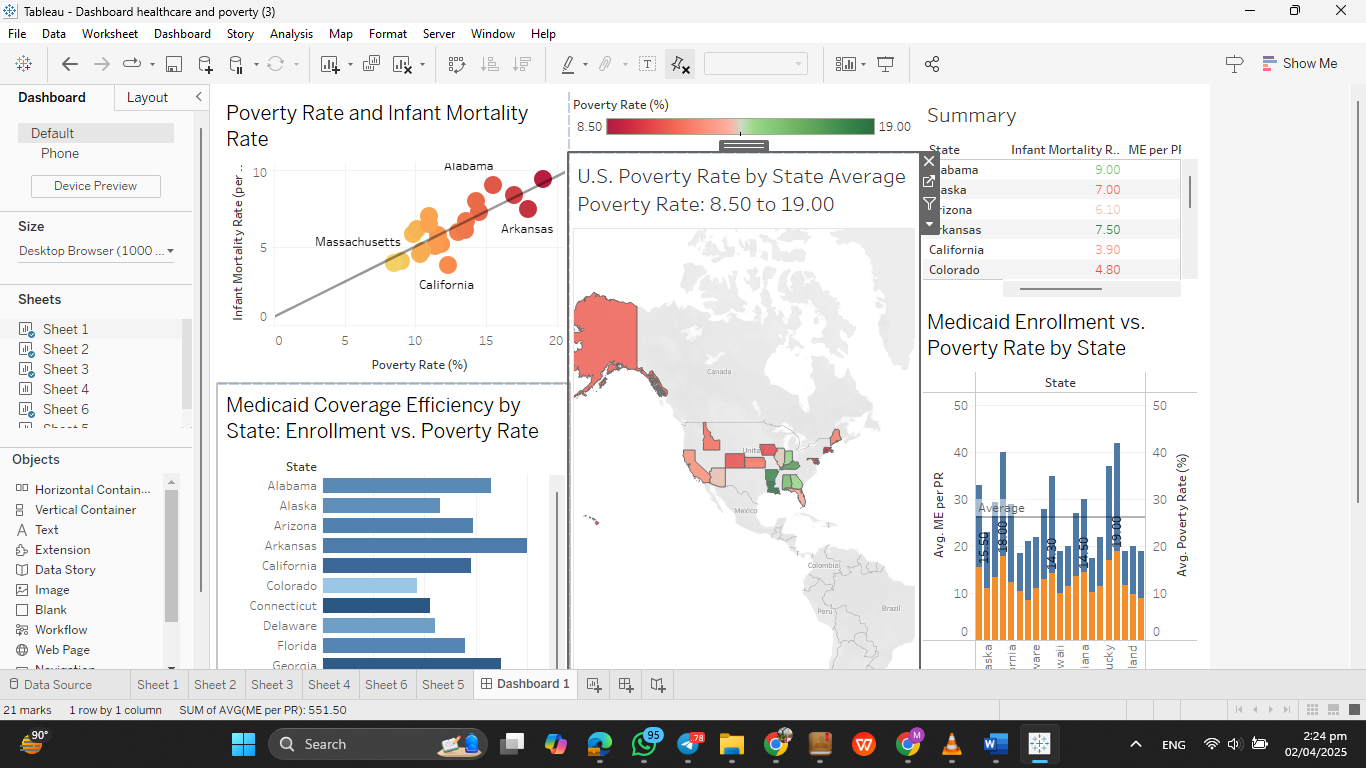

What the dashboard file says about the page in this screenshot:
{"tool":"tableau","page":{"name":"Dashboard 1","canvas":[1000,800],"ordinal":0},"visuals":[{"type":"worksheet","title":"Sheet 3","mark":"Circle","rows":["Infant Mortality Rate (per 1,000 live births)"],"cols":["Poverty Rate (%)"],"box":[8,8,350.5,292]},{"type":"legend","title":"Sheet 1","param":"[federated.0c37ou2148rixe16i6gbo1sla9c6].[sum:Poverty Rate (%):qk]","box":[358.5,8,350.5,61]},{"type":"worksheet","title":"Sheet 5","mark":"Automatic","rows":["State"],"box":[709,8,283,209]},{"type":"worksheet","title":"Sheet 1","mark":"Automatic","box":[358.5,69,350.5,723]},{"type":"worksheet","title":"Sheet 2","mark":"Bar","rows":["Medicaid Enrollment (%)","Poverty Rate (%)"],"cols":["State"],"box":[709,217,283,444]},{"type":"worksheet","title":"Sheet 6","mark":"Automatic","rows":["State"],"cols":["Medicaid Enrollment (%)"],"box":[8,300,350.5,492]},{"type":"legend","title":"Sheet 2","param":"[federated.0c37ou2148rixe16i6gbo1sla9c6].[:Measure Names]","box":[709,661,283,66]},{"type":"legend","title":"Sheet 6","param":"[federated.0c37ou2148rixe16i6gbo1sla9c6].[sum:Calculation_1747959611524739075:qk","box":[709,727,283,65]}]}

Visuals, with their boxes on the page's 1000x800 design canvas (x1, y1, x2, y2). These are canvas units, not pixel positions in the 1366x768 screenshot, which may show the page scaled, cropped or inside an application window:
"Sheet 3" worksheet (Circle marks): bbox=(8, 8, 358, 300)
"Sheet 1" legend: bbox=(358, 8, 709, 69)
"Sheet 5" worksheet: bbox=(709, 8, 992, 217)
"Sheet 1" worksheet: bbox=(358, 69, 709, 792)
"Sheet 2" worksheet (Bar marks): bbox=(709, 217, 992, 661)
"Sheet 6" worksheet: bbox=(8, 300, 358, 792)
"Sheet 2" legend: bbox=(709, 661, 992, 727)
"Sheet 6" legend: bbox=(709, 727, 992, 792)
